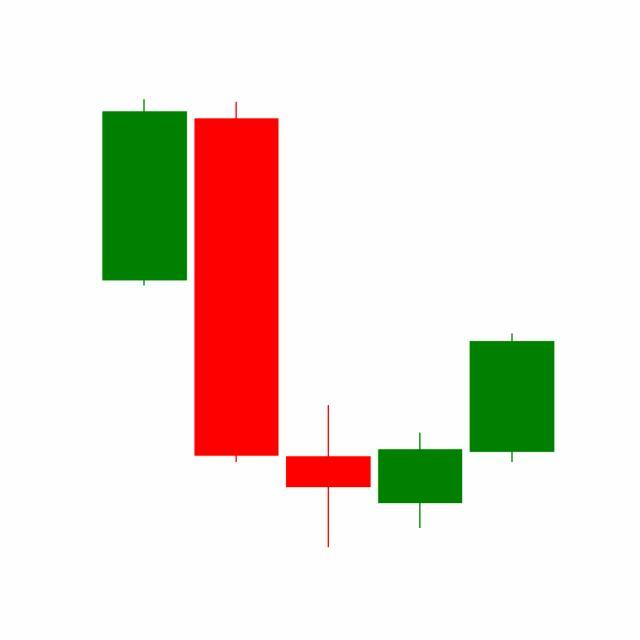Three Outside Up-Down: (280, 330, 555, 548)
